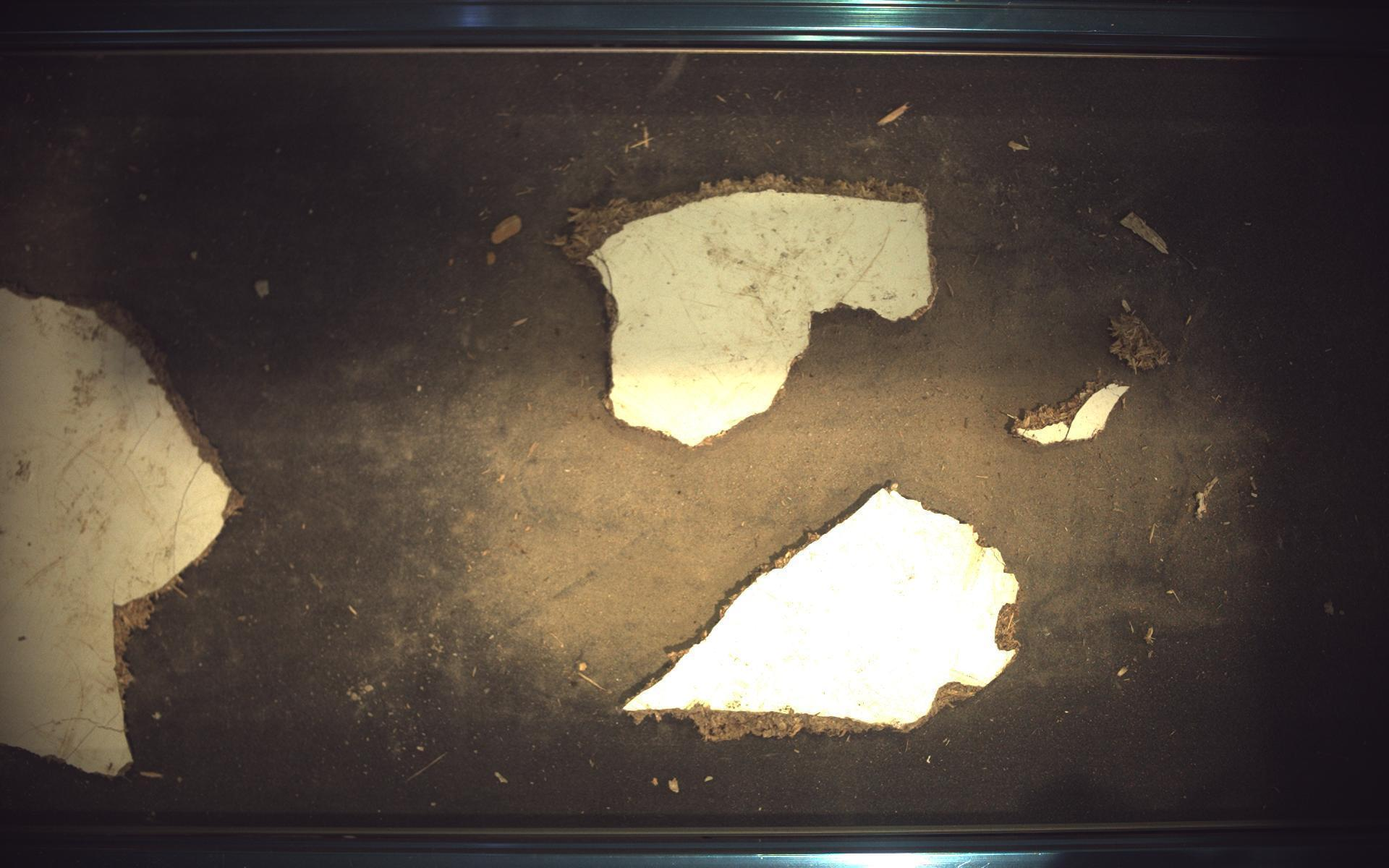wood: (1, 288, 239, 777), (556, 174, 937, 446), (624, 486, 1020, 742), (1015, 378, 1131, 445), (1113, 299, 1172, 371)
